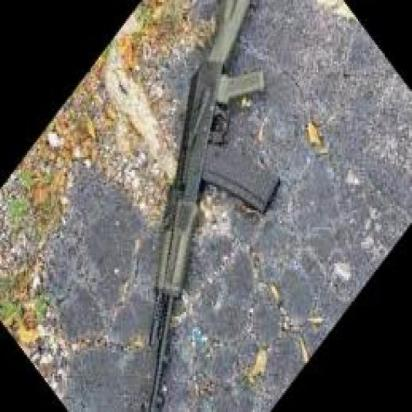Gun: (147, 0, 282, 412)
